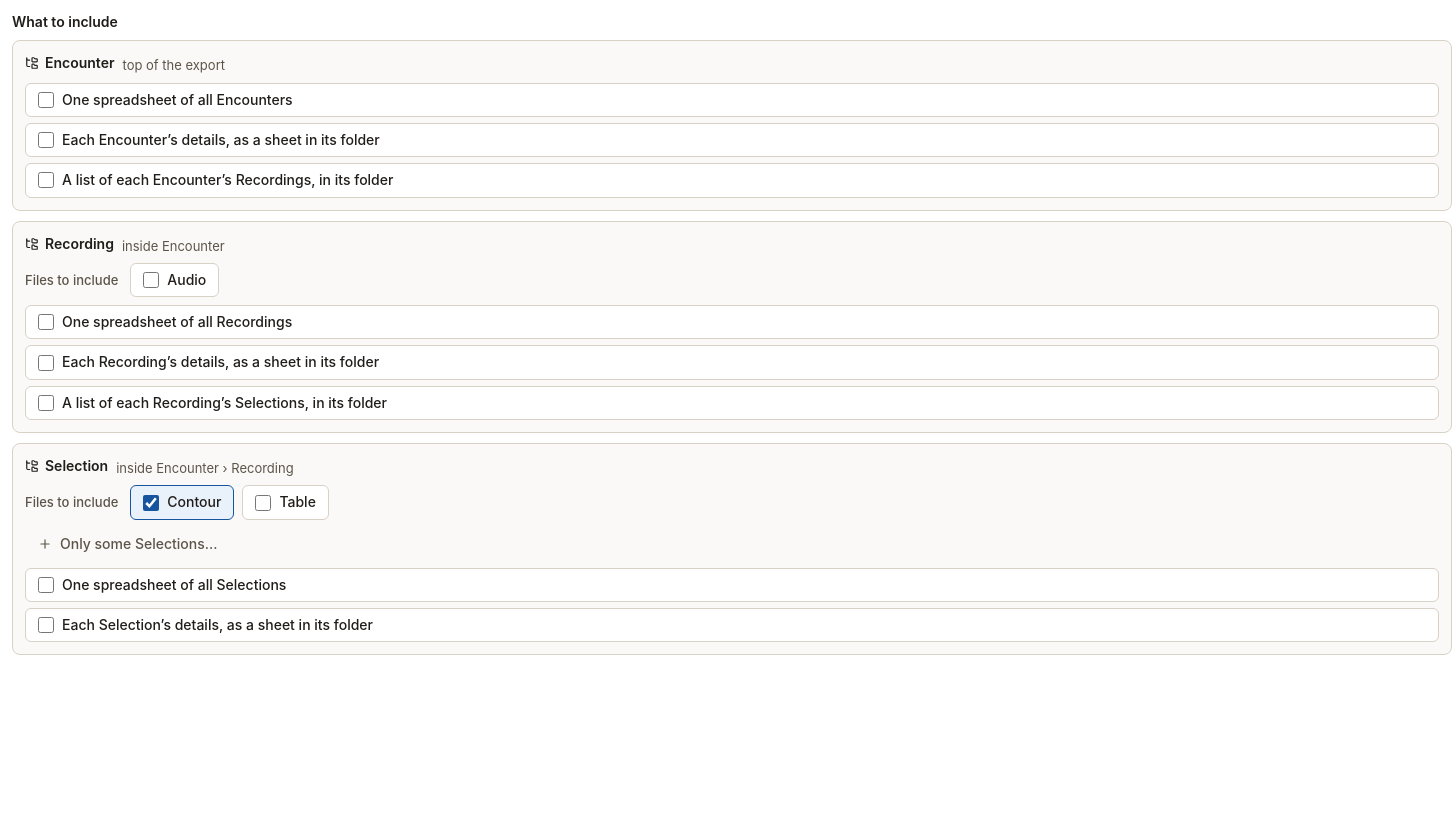
Scenario: only some of the records › opens the conditions when asked for
Click the button "Only some Selections…": coordinates (128, 544) [25,528,230,560]
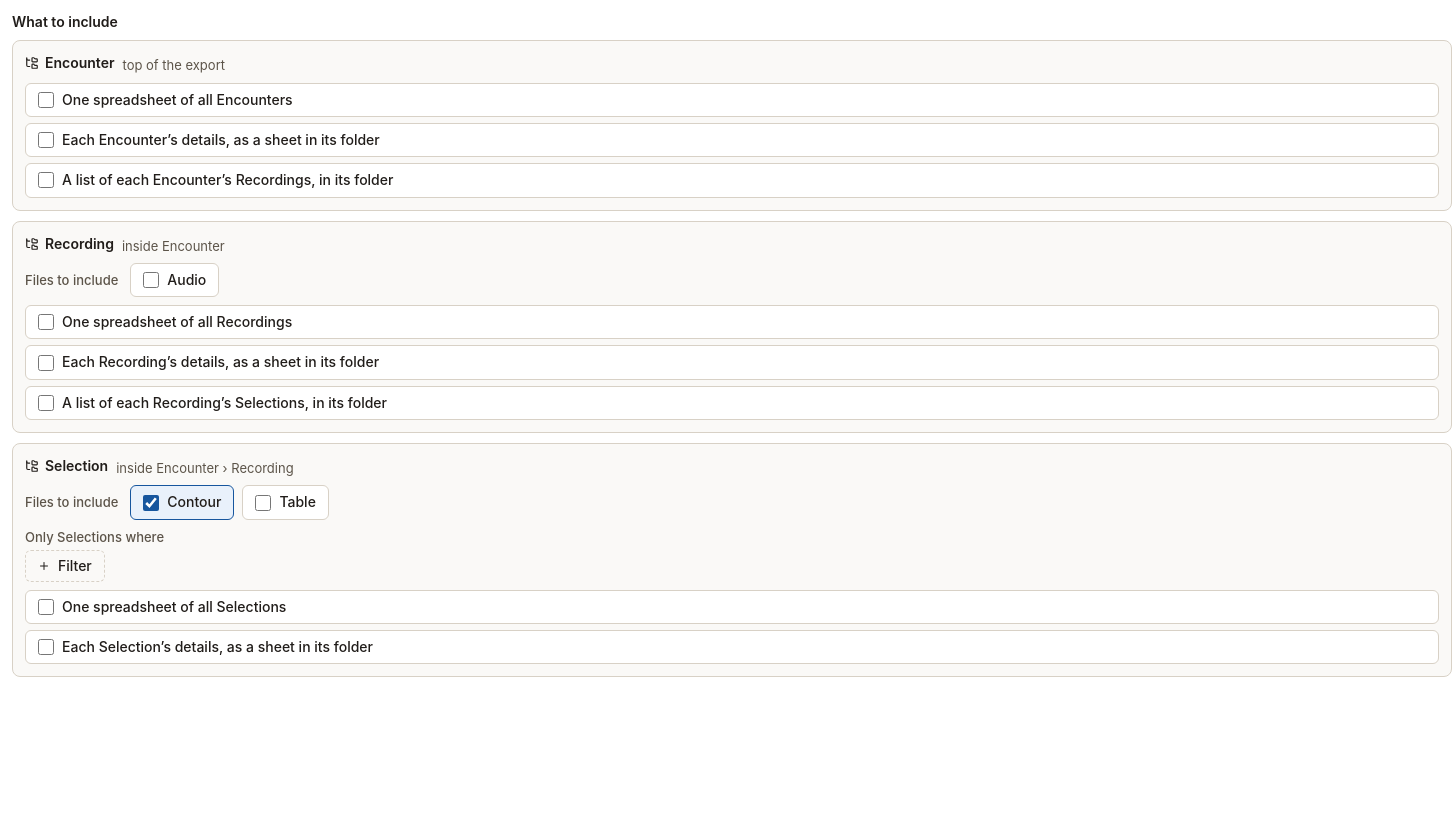
expect the text "Only Selections where" is shown: met, box [25,529,164,545]
